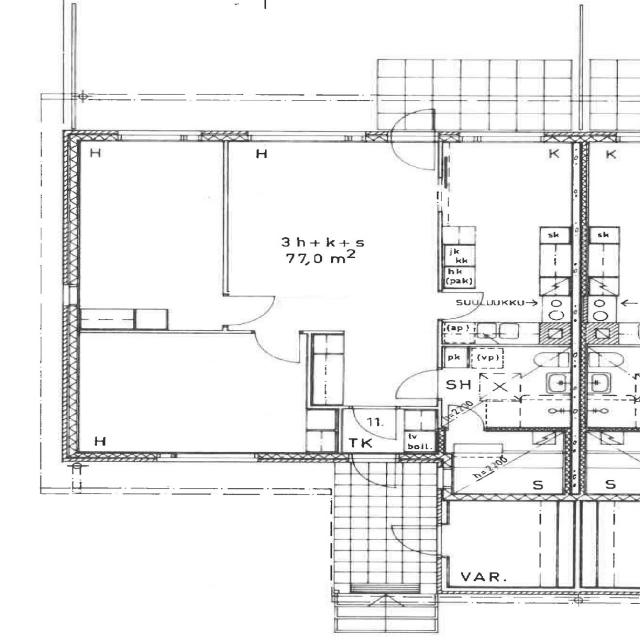door: (391, 526, 449, 555), (392, 130, 434, 170), (352, 453, 396, 490), (392, 103, 434, 141), (223, 296, 273, 325), (255, 330, 299, 362), (392, 370, 442, 398), (353, 406, 396, 437), (437, 292, 483, 320), (448, 405, 484, 432)
